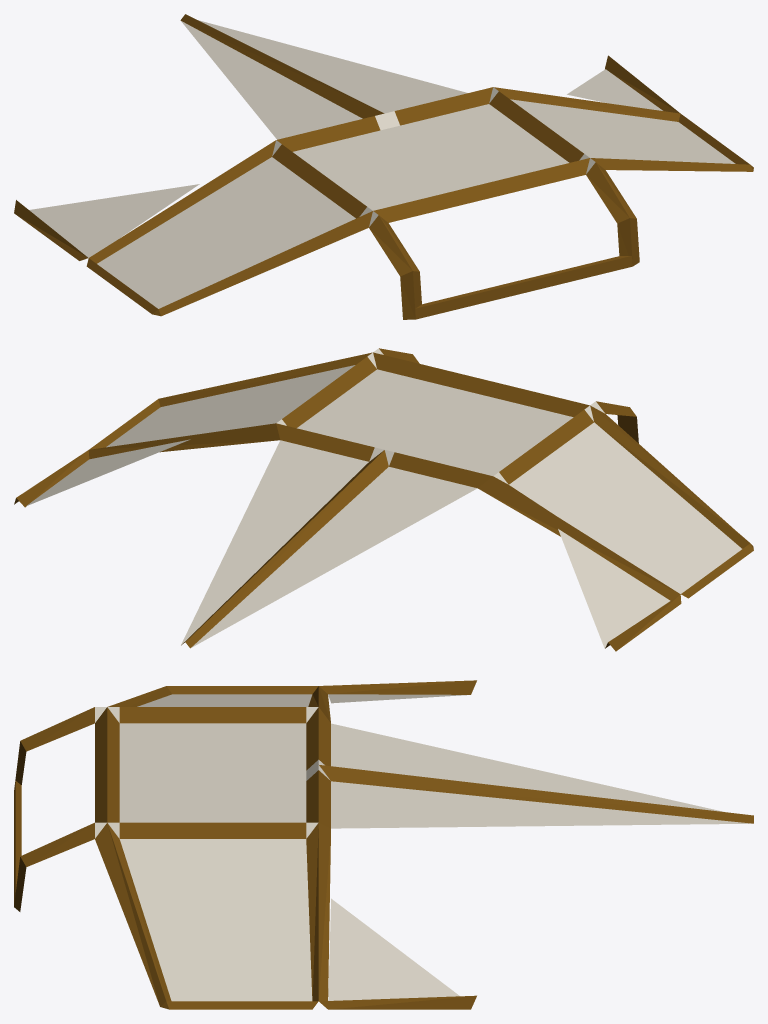
File: obj_gnome_glider_0.obj
3 views of the same model, one above another, from view 1: azimuth 30°, elevation 25°; view 2: azimuth 150°, elevation 25°; view 3: azimuth 270°, elevation 25° (orthographic). The views are drawn at different scales.
Bounding box in the file's own units: 3.81 × 0.4688 × 3.72.
